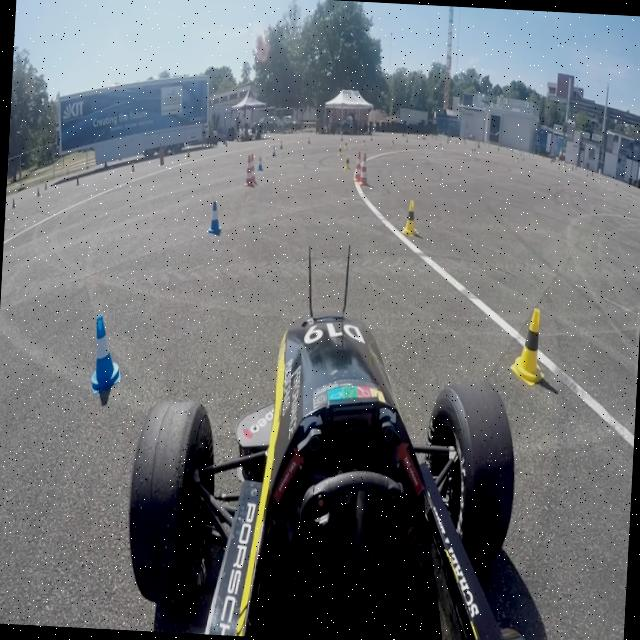blue_cone: (90, 312, 123, 395), (208, 200, 222, 235), (258, 156, 264, 172)
large_orange_cone: (244, 154, 256, 188), (353, 150, 364, 182), (248, 153, 258, 185), (359, 152, 369, 184)
yellow_cone: (510, 307, 548, 387), (402, 198, 421, 238)
